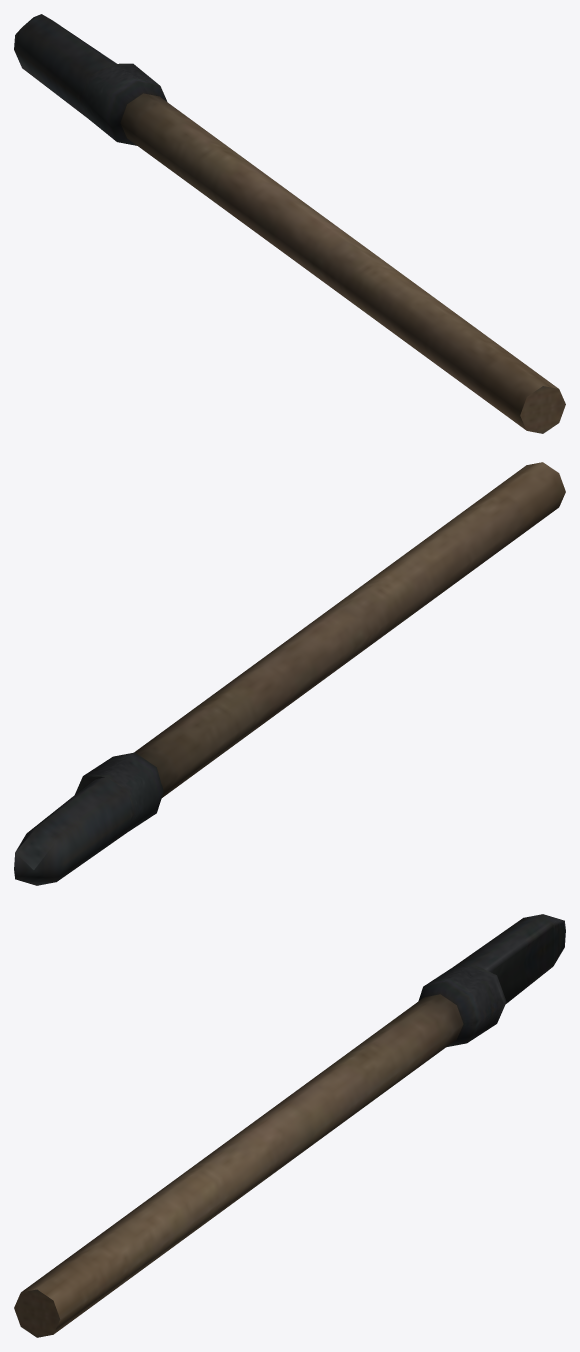
Rendered from pir_m_inv_can_ram_c.fbx.
The picture shows the model from 3 angles, top to bottom: view 1: azimuth 30°, elevation 25°; view 2: azimuth 150°, elevation 25°; view 3: azimuth 330°, elevation 25°; orthographic projection.
Parts seen in each view (by area): view 1: ram_c_root; view 2: ram_c_root; view 3: ram_c_root.
Part boxes in pixels (x1,y1,x2,y2): ram_c_root: [14, 14, 565, 433]; ram_c_root: [14, 462, 565, 885]; ram_c_root: [14, 914, 565, 1337].
Size of the model in its own units: 17.85 by 17.95 by 263.
1 material, 1 textured.
